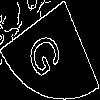G: (25, 24, 70, 82)
